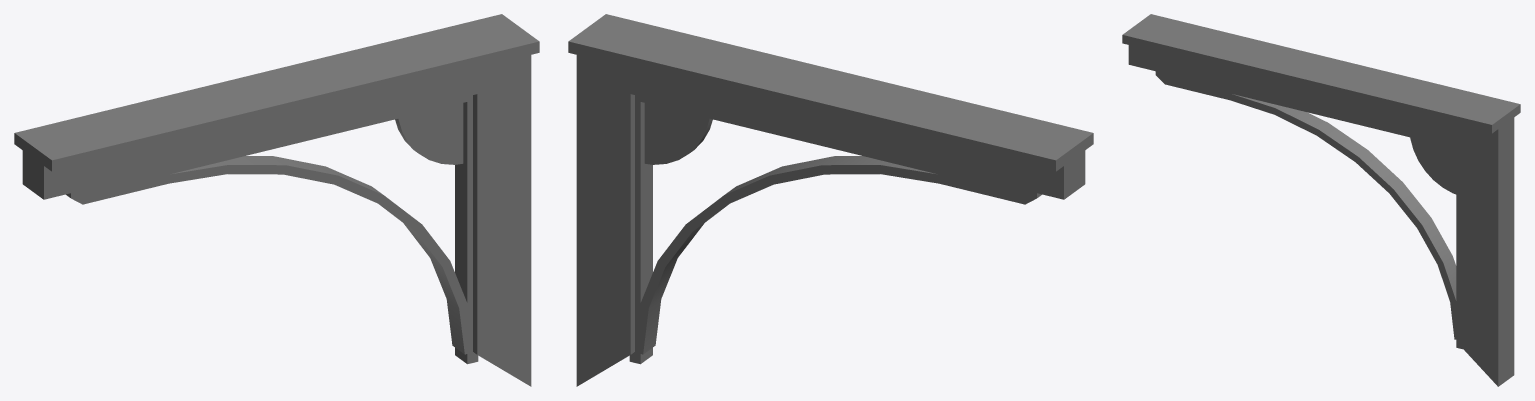
The model's file is tesla_structure_buttress_01.dae.
The picture shows the model from 3 angles, left to right: view 1: azimuth 30°, elevation 25°; view 2: azimuth 150°, elevation 25°; view 3: azimuth 330°, elevation 25°; orthographic projection. The views are drawn at different scales.
Visible parts, largest first — view 1: polySurface443; view 2: polySurface443; view 3: polySurface443.
Part boxes in pixels (bbox=[...]): polySurface443: bbox=[14, 14, 539, 386]; polySurface443: bbox=[568, 14, 1093, 386]; polySurface443: bbox=[1122, 14, 1520, 386].
Size of the model in its own units: 5625 by 3875 by 750.
